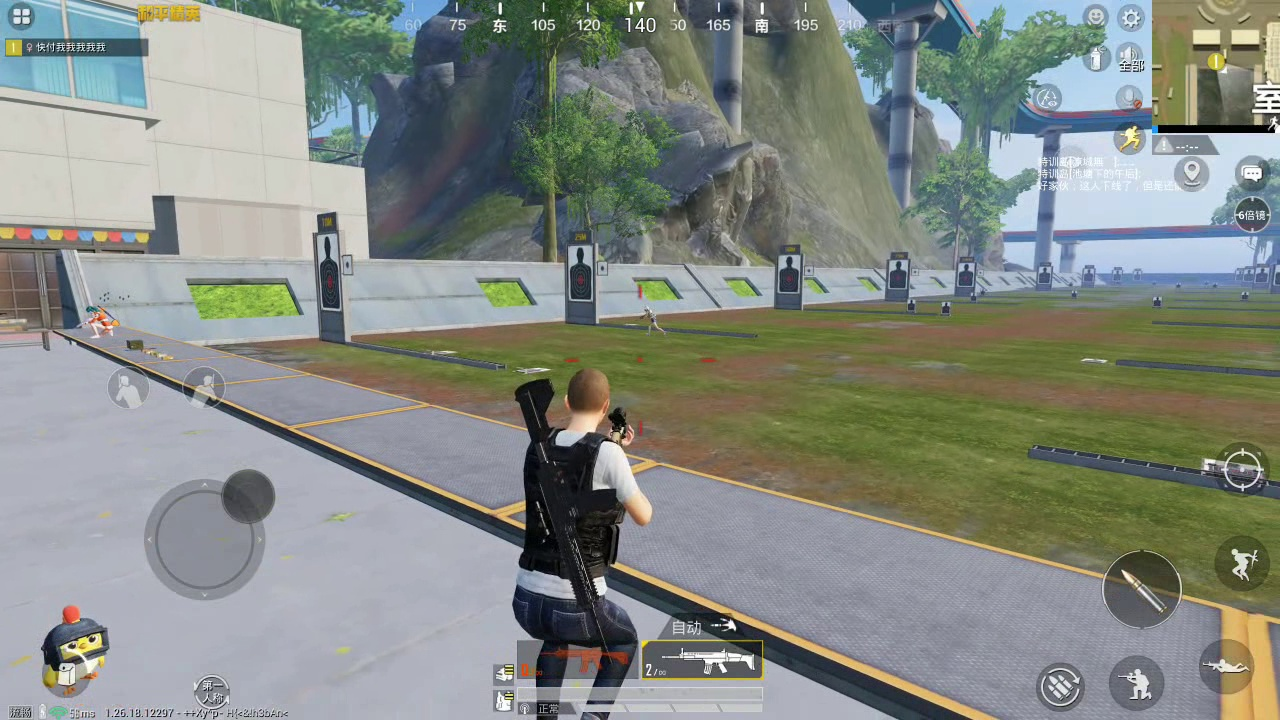enemy: (80, 304, 117, 341), (644, 305, 667, 338)
